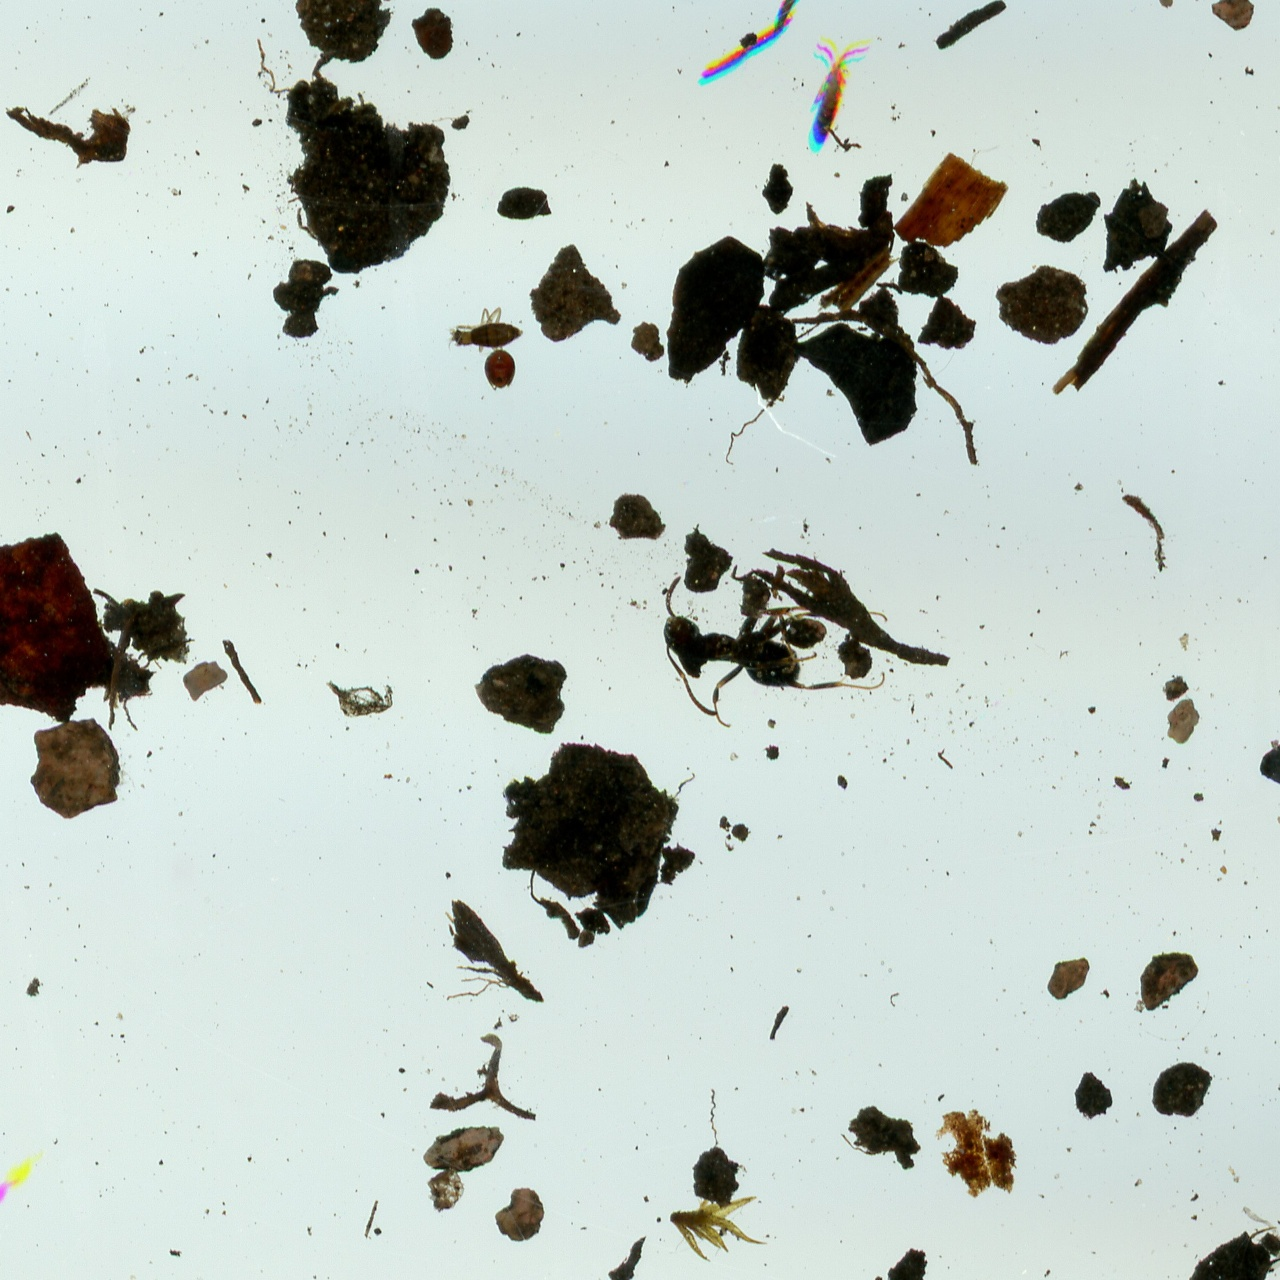arthropod: (654, 571, 894, 730), (794, 22, 879, 163), (444, 305, 527, 353), (481, 349, 518, 395)
